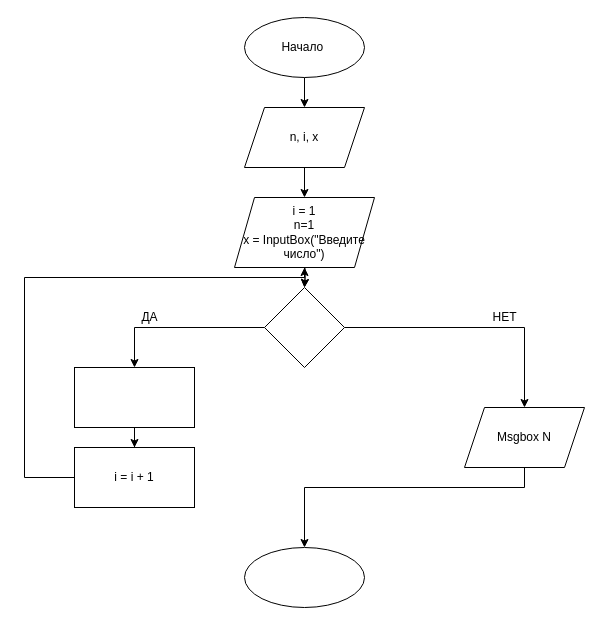
Some shapes in this 602 by 625 pixel diagram are drawn without their labels. The centre of each missing label's shape, as x and y in pixels:
"i <= x" goes at (304,327).
"n = n * i" goes at (134,397).
"Конец" goes at (304,577).
